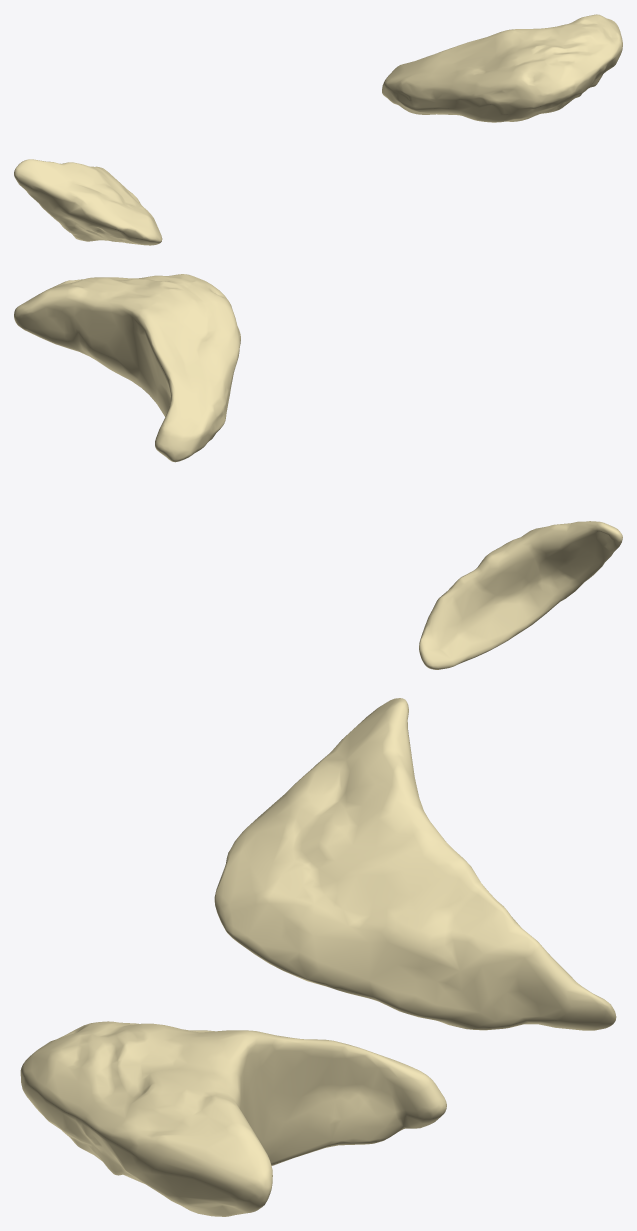
Rendered from adrenals.glb.
3 views of the same model, one above another, from view 1: azimuth 30°, elevation 25°; view 2: azimuth 150°, elevation 25°; view 3: azimuth 270°, elevation 25° (orthographic). The views are drawn at different scales.
Visible parts, largest first — view 1: left adrenal gland, right adrenal gland; view 2: left adrenal gland, right adrenal gland; view 3: right adrenal gland, left adrenal gland.
Boxes of the visible parts, x1,y1,x2,y2 form: left adrenal gland: (382, 14, 622, 122); right adrenal gland: (14, 159, 162, 245); left adrenal gland: (14, 274, 240, 462); right adrenal gland: (419, 521, 622, 669); right adrenal gland: (214, 698, 616, 1030); left adrenal gland: (20, 1021, 446, 1216).
Size of the model in its own units: 138 by 39.2 by 62.7.
